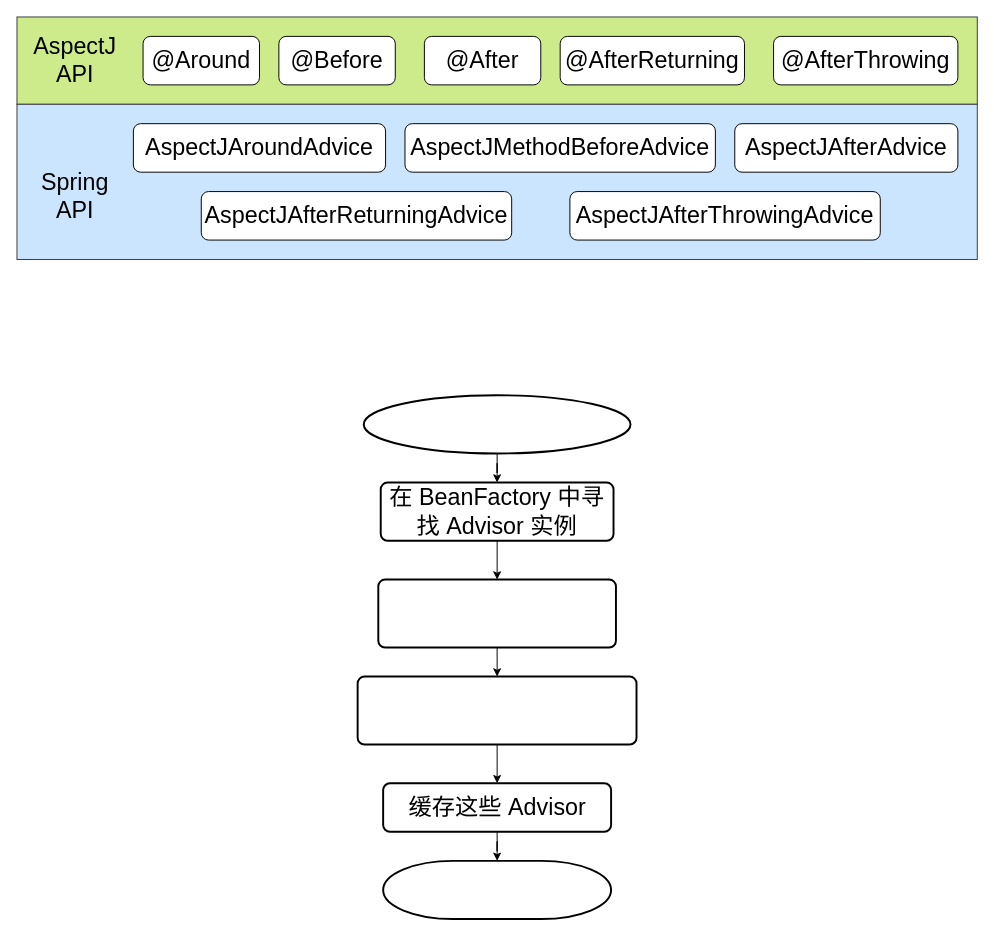
Image size: 994x937. Some labels were removed from this diagram. The centre of each missing label's shape, as x and y in pixels:
"findCandidateAdvisors" goes at (496,424).
"return Advisor 列表" goes at (497,889).
"在 BeanFactory 中寻找 AspectJ 切面类" goes at (496,613).
"将 AspectJ 切面类中的切面方法封装为 Advisor" goes at (496,710).
